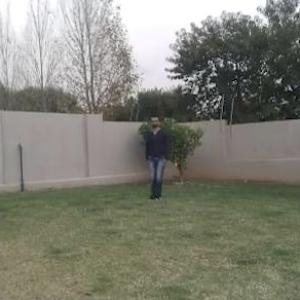follow: (144, 112, 168, 208)
